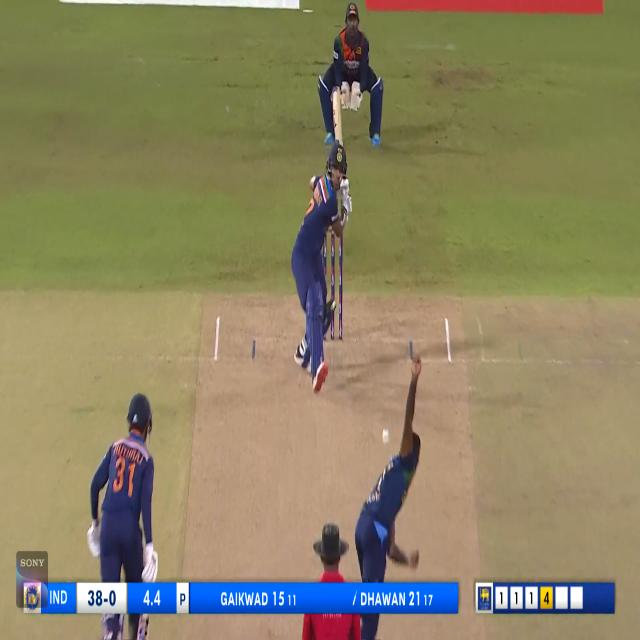ball: (382, 429, 389, 444)
